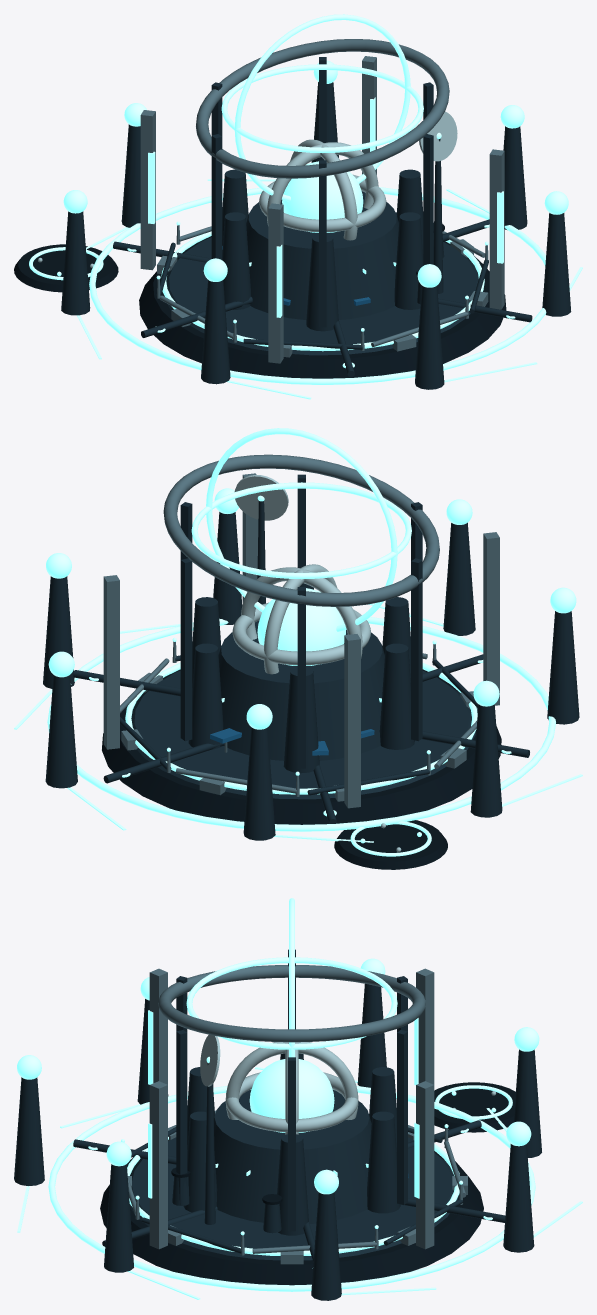
Rendered from fusionReactor-stage4.glb.
3 renders of one model, top to bottom at view 1: azimuth 30°, elevation 25°; view 2: azimuth 150°, elevation 25°; view 3: azimuth 270°, elevation 25°, orthographic. The views are drawn at different scales.
Parts seen in each view (by area): view 1: containment-vault, upper-deck, armored-foundation, power-crown, district-grid-3, power-crown-field-y, power-crown-field-x, energy-pylon-1, energy-pylon-2, fusion-core, landing-pad, energy-pylon-3 (+30 smaller); view 2: upper-deck, containment-vault, armored-foundation, power-crown, district-grid-3, landing-pad, power-crown-field-y, coolant-tower-3, power-crown-field-x, mega-pylon-3, mega-pylon-2, energy-pylon-5 (+29 smaller); view 3: containment-vault, armored-foundation, upper-deck, power-crown, district-grid-3, fusion-core, mega-pylon-3, mega-pylon-0, coolant-tower-5, landing-pad, energy-pylon-5, energy-pylon-1 (+24 smaller).
Boxes of the visible parts, x1,y1,x2,y2 form: containment-vault: [246, 191, 398, 319]; upper-deck: [162, 237, 483, 355]; armored-foundation: [139, 236, 506, 378]; power-crown: [196, 39, 449, 178]; district-grid-3: [89, 187, 546, 384]; power-crown-field-y: [221, 64, 423, 153]; power-crown-field-x: [234, 14, 410, 201]; energy-pylon-1: [415, 285, 444, 389]; energy-pylon-2: [201, 280, 230, 384]; fusion-core: [282, 161, 363, 232]; landing-pad: [14, 244, 118, 292]; energy-pylon-3: [61, 211, 90, 315]; upper-deck: [131, 670, 475, 799]; containment-vault: [218, 620, 384, 760]; armored-foundation: [102, 669, 501, 824]; power-crown: [163, 454, 439, 606]; district-grid-3: [47, 617, 555, 831]; landing-pad: [334, 817, 447, 869]; power-crown-field-y: [191, 482, 411, 579]; coolant-tower-3: [379, 643, 414, 749]; power-crown-field-x: [206, 428, 397, 631]; mega-pylon-3: [103, 575, 119, 749]; mega-pylon-2: [344, 634, 360, 808]; energy-pylon-5: [45, 675, 77, 788]; containment-vault: [214, 1090, 371, 1223]; armored-foundation: [100, 1151, 483, 1285]; upper-deck: [129, 1137, 458, 1260]; power-crown: [158, 965, 425, 1042]; district-grid-3: [48, 1086, 535, 1291]; fusion-core: [249, 1059, 334, 1132]; mega-pylon-3: [416, 1081, 434, 1249]; mega-pylon-0: [149, 1081, 167, 1249]; coolant-tower-5: [367, 1111, 400, 1213]; landing-pad: [434, 1082, 515, 1132]; energy-pylon-5: [503, 1144, 534, 1252]; energy-pylon-1: [14, 1077, 44, 1185].
Size of the model in its own units: 16.81 by 10.06 by 17.26.
